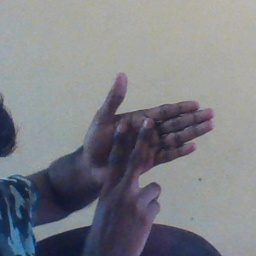N: (76, 67, 220, 223)
